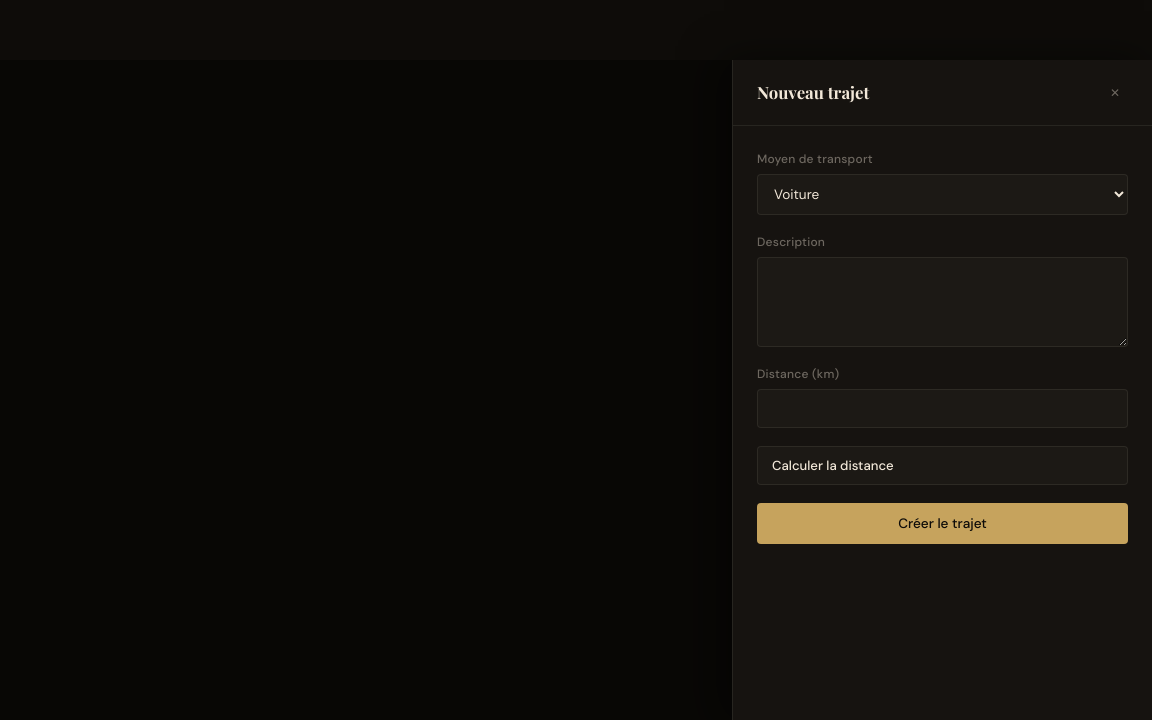
TravelLegForm › does not apply a calculation made for a transport that changed
Click the button "Calculer la distance" at (833, 466), box [757,446,1128,485]
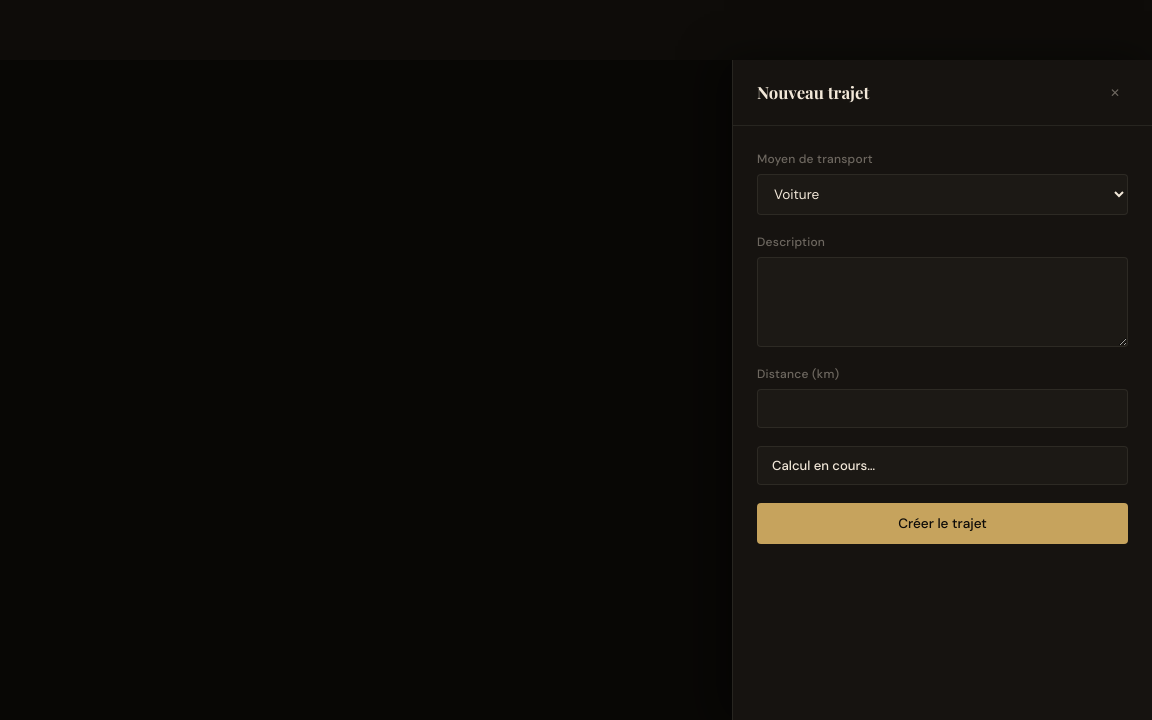
Select "Avion" in the dropdown labelled "Moyen de transport" at (942, 195), box [757,174,1128,215]
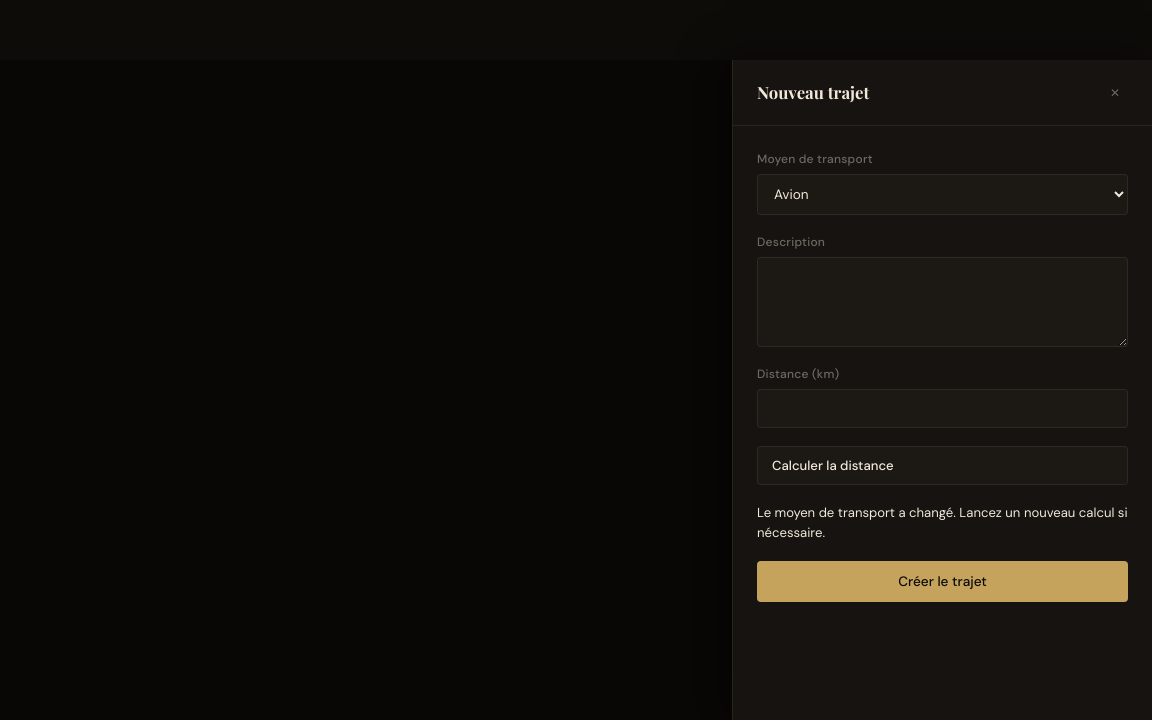
Expected: the number field labelled "Distance (km)" is not empty, [757,389,1128,428]
Expected: the text "Le moyen de transport a changé. Lancez un nouveau calcul si nécessaire." is shown, [757,503,1128,543]
